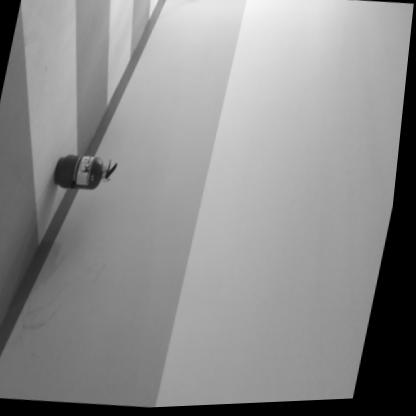FE: (55, 151, 121, 193)
